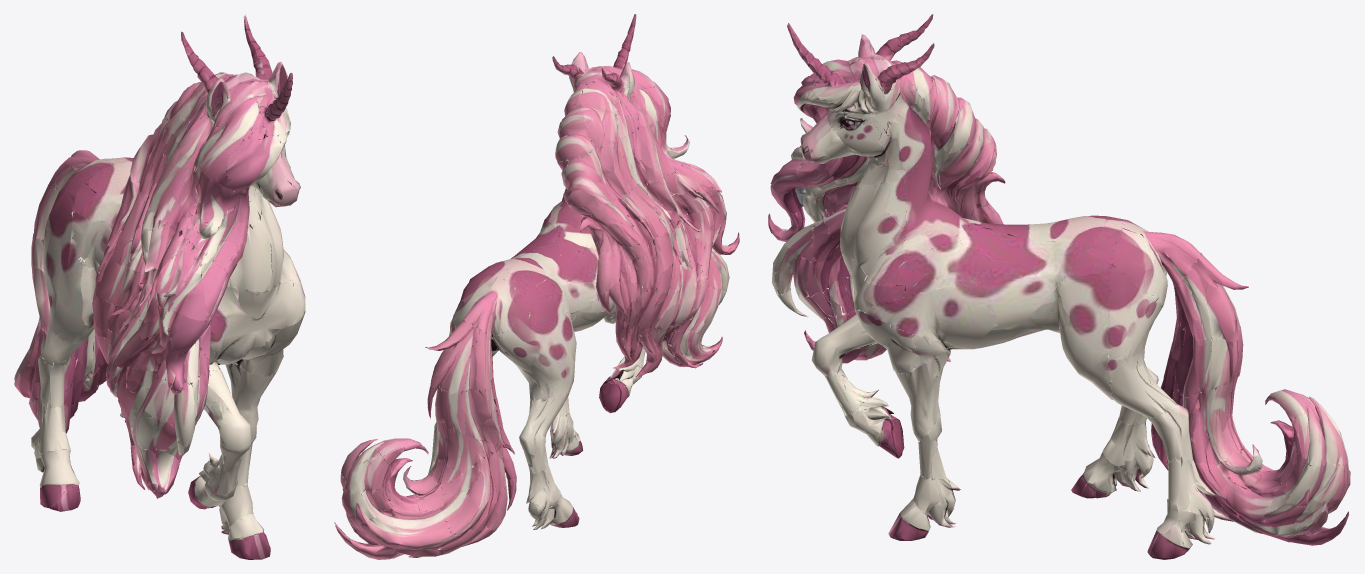
3 views of the same model, side by side, from view 1: azimuth 30°, elevation 25°; view 2: azimuth 150°, elevation 25°; view 3: azimuth 270°, elevation 25° (orthographic). The views are drawn at different scales.
Parts seen in each view (by area): view 1: Mesh_0; view 2: Mesh_0; view 3: Mesh_0.
Part boxes in pixels (x1=…): Mesh_0: x1=14, y1=15, x2=305, y2=559; Mesh_0: x1=334, y1=14, x2=739, y2=559; Mesh_0: x1=768, y1=14, x2=1350, y2=559.
Bounding box in the file's own units: 0.8693 × 1.81 × 1.9.
1 material, 1 textured.
